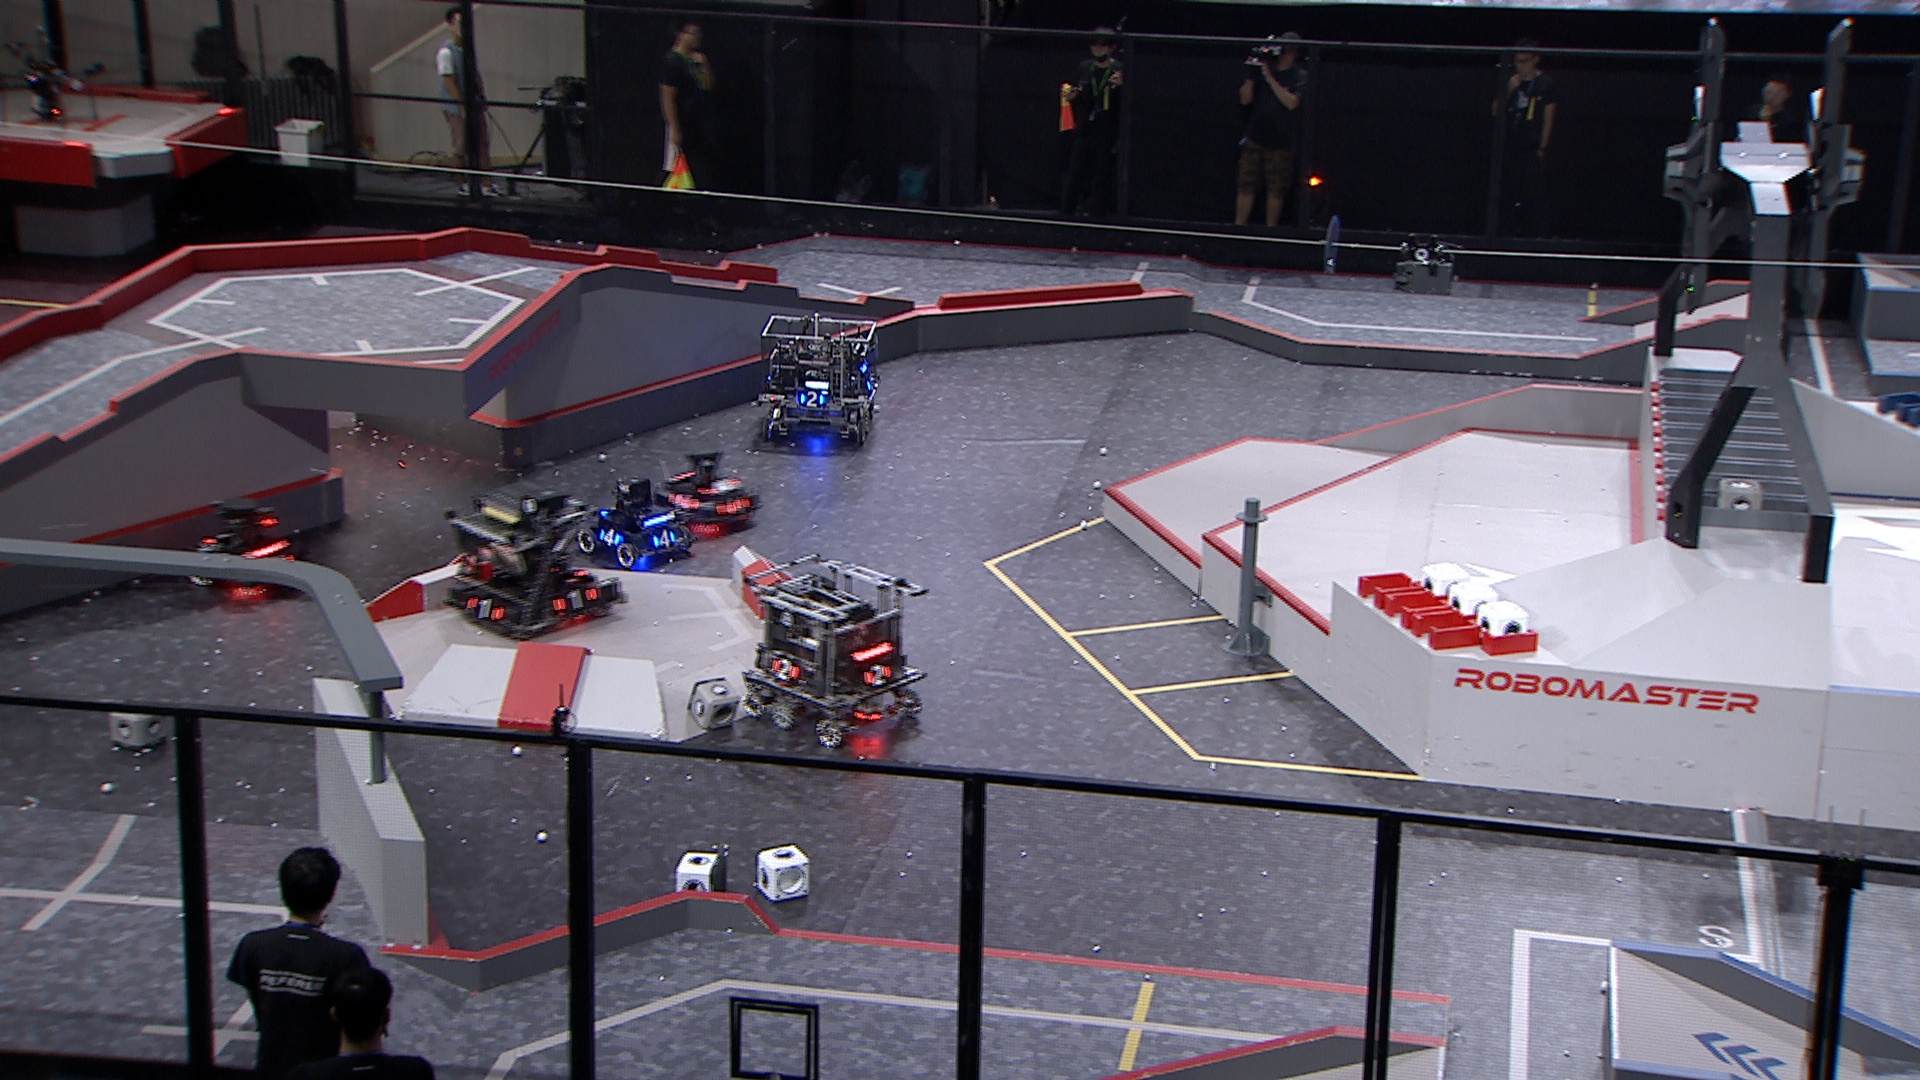armor: (550, 585, 599, 615), (460, 597, 504, 622), (860, 662, 894, 688), (769, 657, 800, 684), (595, 527, 624, 550), (719, 498, 752, 517), (700, 477, 738, 493), (666, 493, 698, 512), (650, 529, 678, 550), (796, 390, 827, 409)
car: (737, 555, 930, 750), (443, 480, 626, 640), (756, 310, 882, 447), (578, 472, 698, 568), (189, 496, 302, 597), (654, 448, 767, 535)
